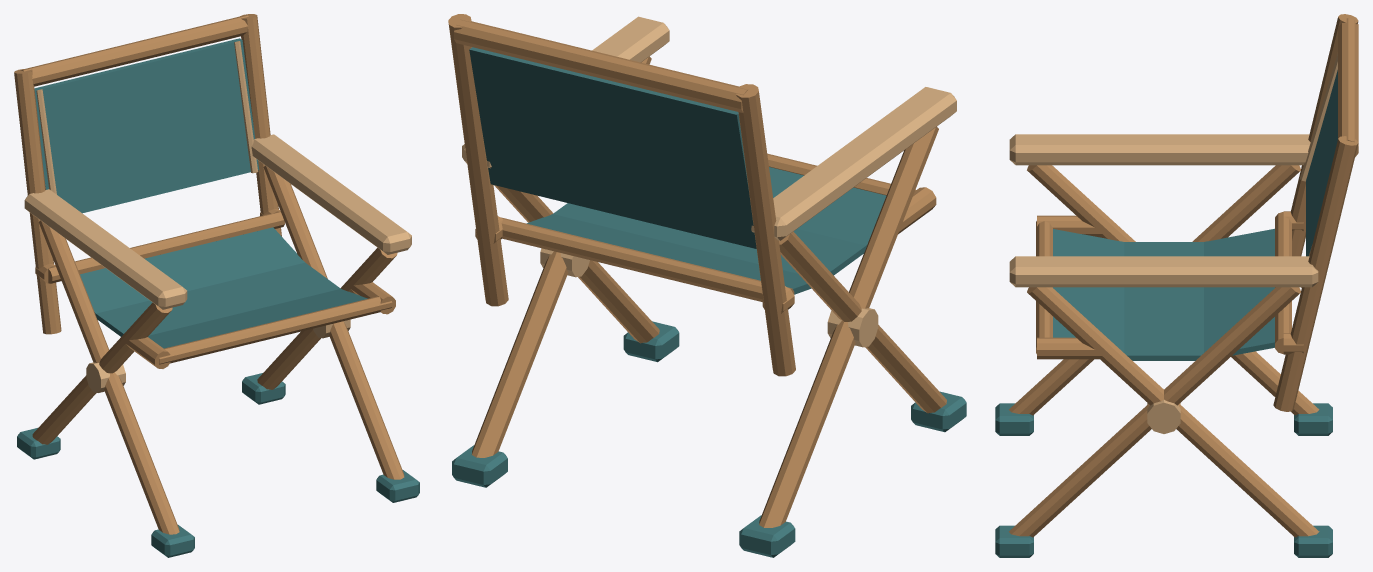
The picture shows the model from 3 angles, left to right: view 1: azimuth 30°, elevation 25°; view 2: azimuth 150°, elevation 25°; view 3: azimuth 270°, elevation 25°; orthographic projection. The views are drawn at different scales.
Parts seen in each view (by area): view 1: camping-chair-01; view 2: camping-chair-01; view 3: camping-chair-01.
Boxes of the visible parts, x1,y1,x2,y2 form: camping-chair-01: (14, 14, 419, 557); camping-chair-01: (448, 14, 966, 557); camping-chair-01: (995, 14, 1358, 557).
Bounding box in the file's own units: 0.658 × 0.9145 × 0.7299.
